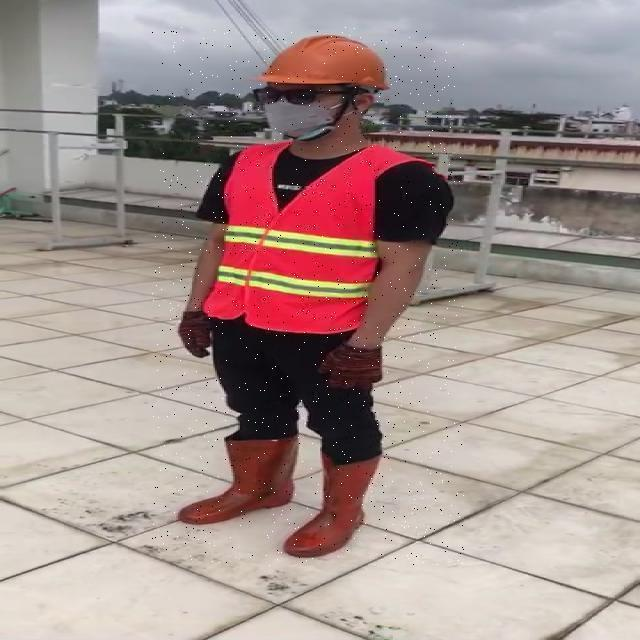helmet: (254, 28, 399, 90)
safety_vest: (202, 143, 378, 331)
